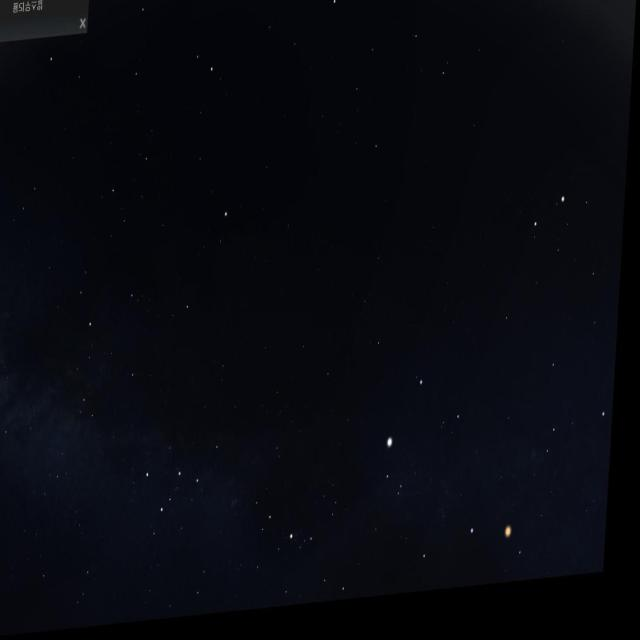cassiopeia: (140, 420, 238, 549)
